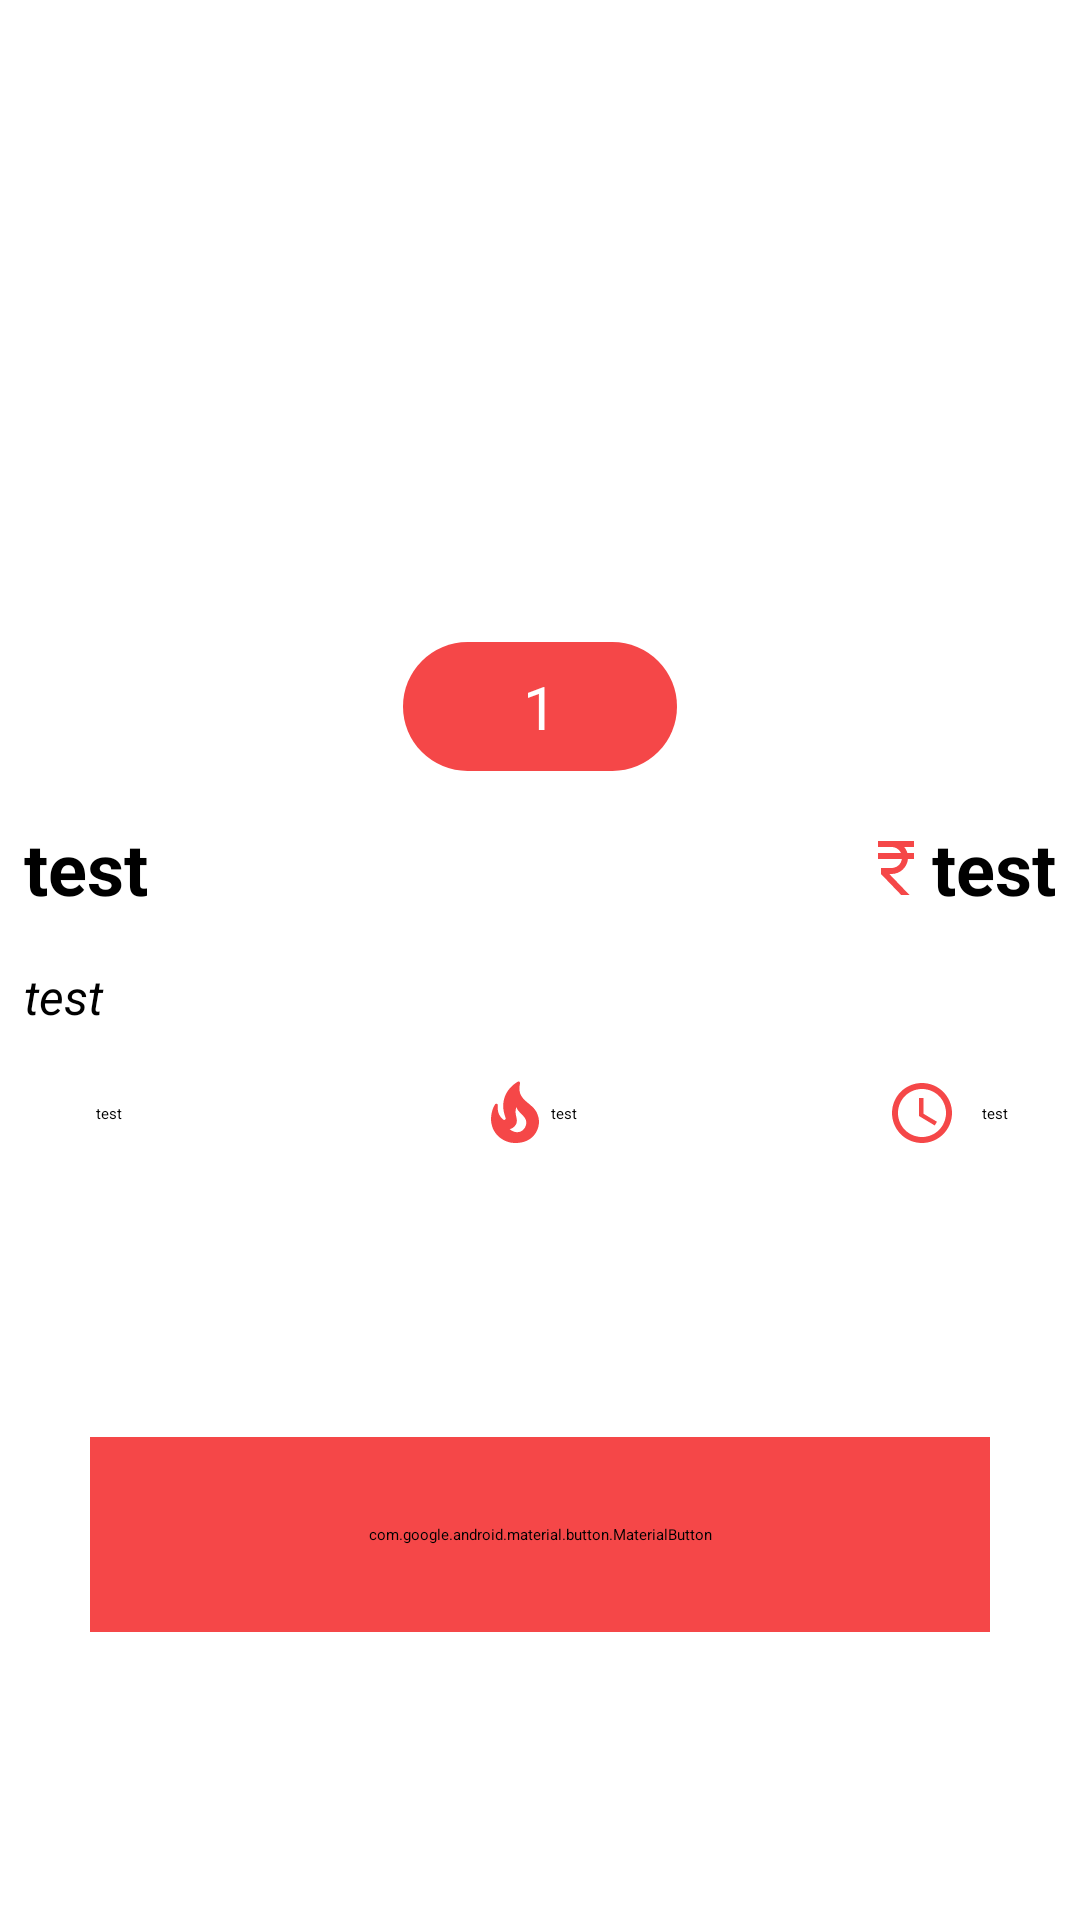

Icons on this 1080x1920 Android screen, each with its box as bbox=(x1, y1, x2, y2):
fire: bbox=(491, 1081, 539, 1143)
rupee: bbox=(878, 841, 914, 895)
time: bbox=(892, 1083, 952, 1143)
